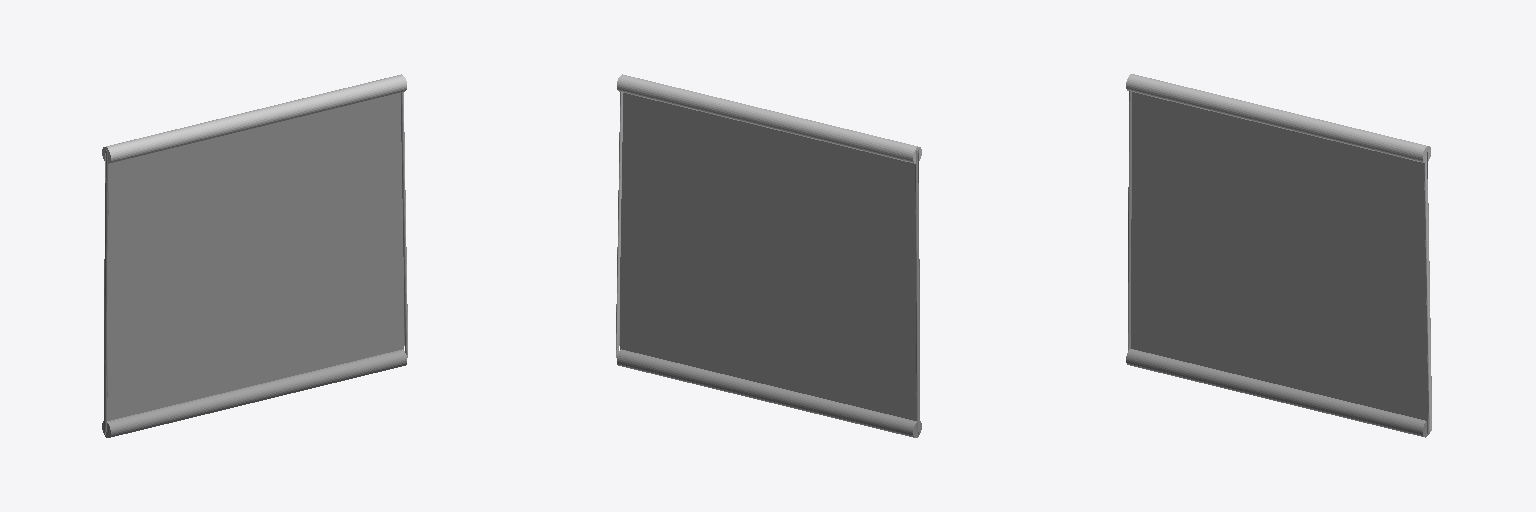
The model's file is Eva.obj.
The picture shows the model from 3 angles: view 1: azimuth 30°, elevation 25°; view 2: azimuth 150°, elevation 25°; view 3: azimuth 330°, elevation 25°; orthographic projection.
Parts seen in each view (by area): view 1: Plane, Cylinder.001, Cylinder, Cylinder.003, Cylinder.002; view 2: Plane, Cylinder.001, Cylinder, Cylinder.003, Cylinder.002; view 3: Plane, Cylinder.001, Cylinder, Cylinder.002, Cylinder.003.
Part boxes in pixels (x1,y1,x2,y2): Plane: (105,93,403,434); Cylinder.001: (102,74,406,163); Cylinder: (102,349,406,437); Cylinder.003: (104,150,108,431); Cylinder.002: (401,92,407,357); Plane: (620,93,918,434); Cylinder.001: (617,74,921,163); Cylinder: (617,349,921,437); Cylinder.003: (915,150,919,431); Cylinder.002: (616,92,622,357); Plane: (1131,92,1427,433); Cylinder.001: (1126,74,1430,162); Cylinder: (1126,349,1429,437); Cylinder.002: (1424,155,1431,431); Cylinder.003: (1128,91,1131,350).
Size of the model in its own units: 6.76 by 6.17 by 0.3404.